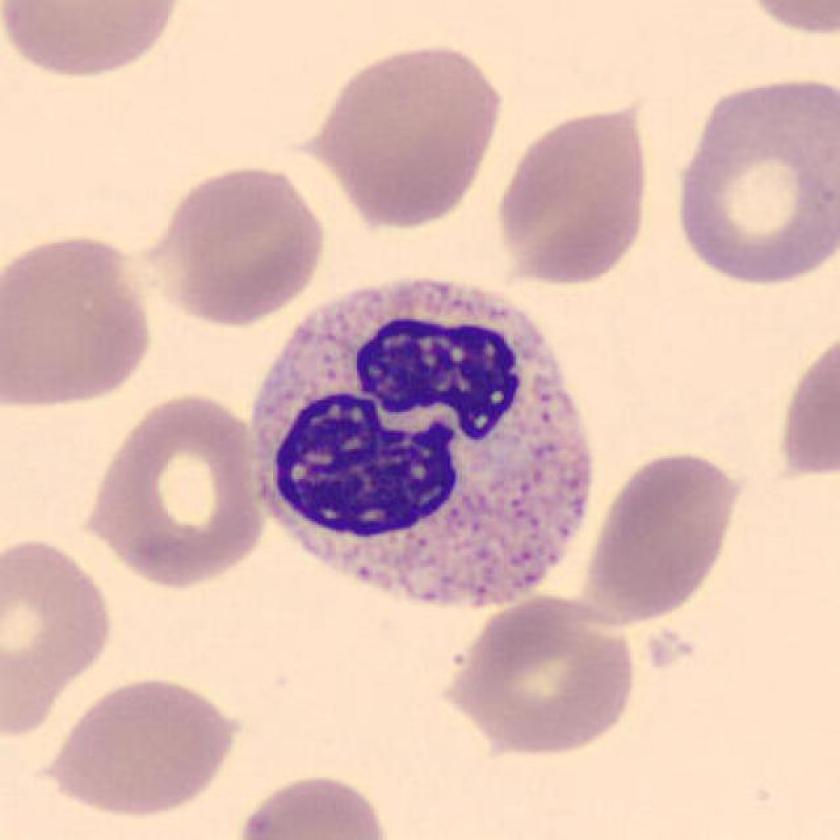neutrophil: (247, 279, 591, 597)
